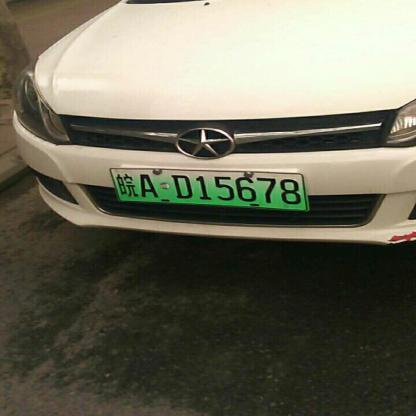lp: (110, 168, 308, 211)
